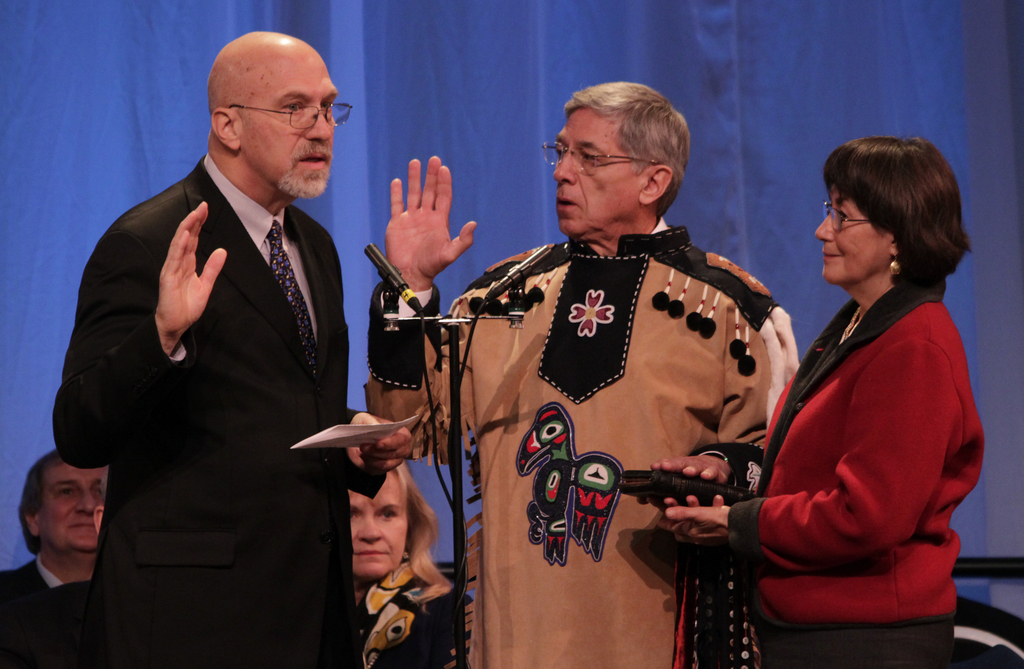Human_hand: (382, 157, 470, 311), (152, 201, 230, 332), (346, 407, 415, 479), (657, 491, 738, 551), (650, 453, 732, 483)
